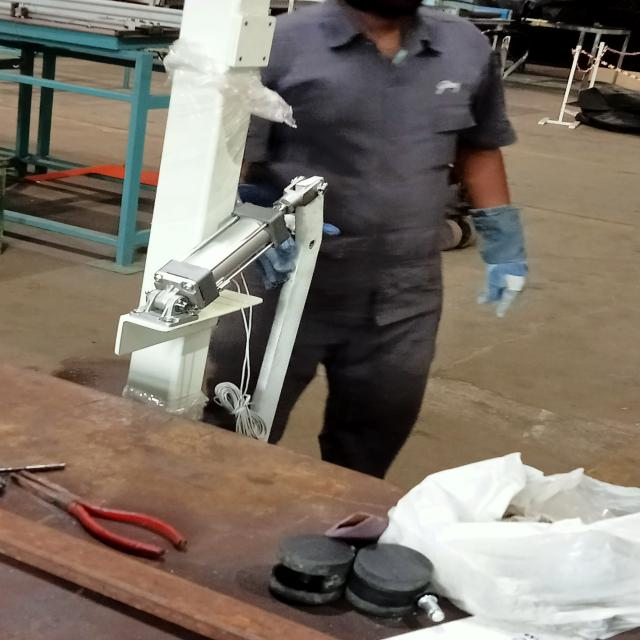Gloves-Detection: (452, 203, 564, 326)
